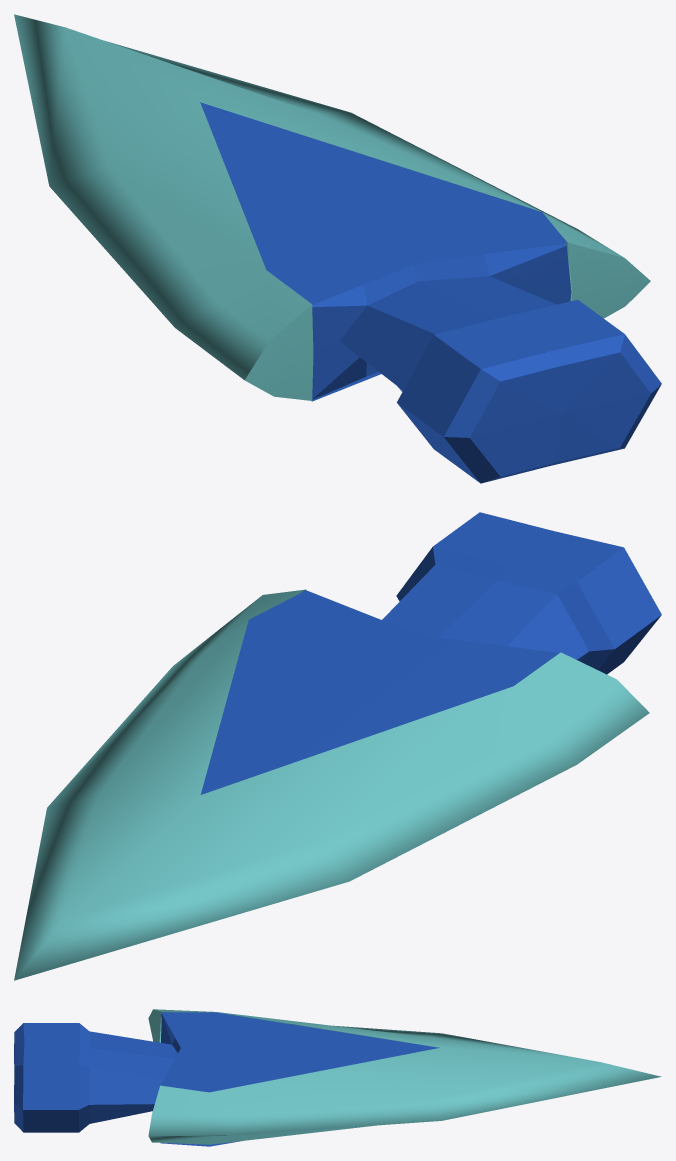
The picture shows the model from 3 angles, top to bottom: view 1: azimuth 30°, elevation 25°; view 2: azimuth 150°, elevation 25°; view 3: azimuth 270°, elevation 25°; orthographic projection. The views are drawn at different scales.
Visible parts, largest first — view 1: 对象003, Line002; view 2: Line002, 对象003; view 3: Line002, 对象003.
Boxes of the visible parts, x1,y1,x2,y2 form: 对象003: [200, 102, 661, 483]; Line002: [14, 14, 650, 400]; Line002: [14, 589, 649, 980]; 对象003: [200, 512, 661, 794]; Line002: [148, 1009, 661, 1144]; 对象003: [14, 1012, 439, 1146].
Size of the model in its own units: 62.9 by 16.93 by 146.
